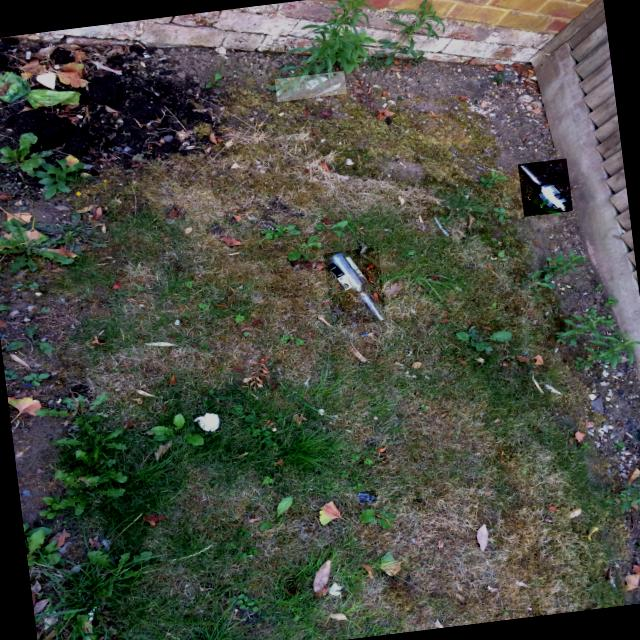Cigarette: (395, 71, 401, 79), (185, 146, 195, 148)
Glass bottle: (325, 250, 386, 321), (519, 163, 572, 212), (277, 72, 345, 101)
Plastic film: (359, 492, 376, 503)
Unlabeled litter: (194, 413, 220, 431), (434, 216, 449, 236), (87, 607, 95, 624), (85, 623, 92, 633)
